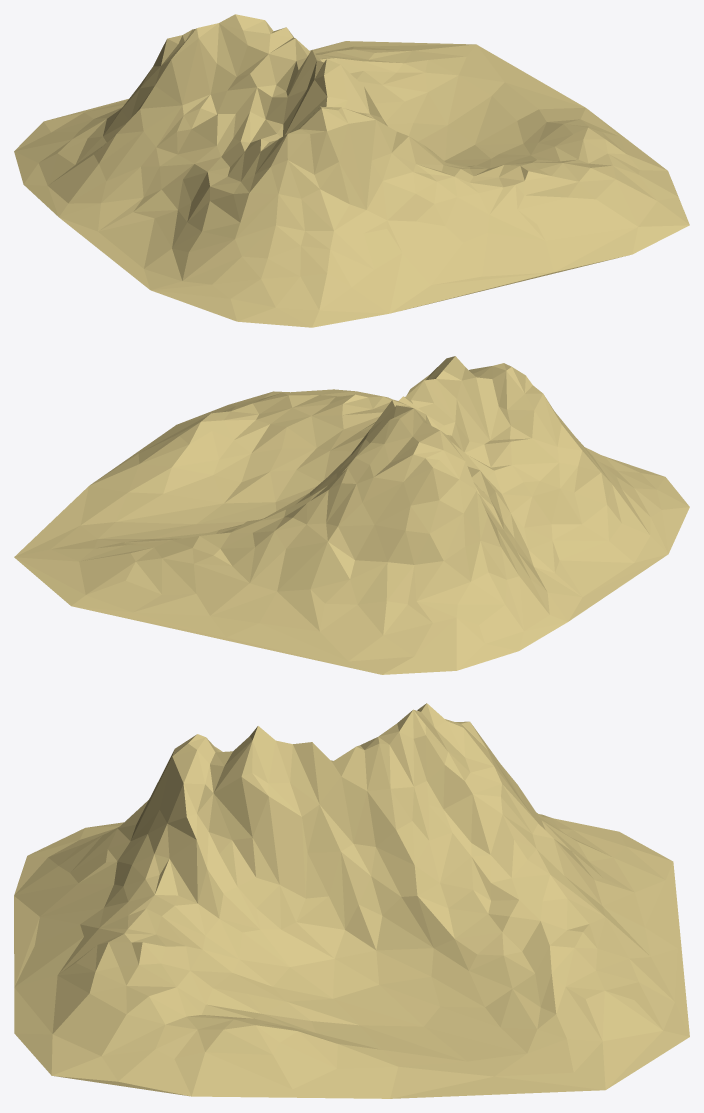
File: TerrainSand_8.fbx
3 renders of one model, top to bottom at view 1: azimuth 30°, elevation 25°; view 2: azimuth 150°, elevation 25°; view 3: azimuth 270°, elevation 25°, orthographic. The views are drawn at different scales.
Visible parts, largest first — view 1: TerrainSand_8; view 2: TerrainSand_8; view 3: TerrainSand_8.
Boxes of the visible parts, left/top/right/bottom form: TerrainSand_8: left=14, top=14, right=689, bottom=327; TerrainSand_8: left=14, top=356, right=689, bottom=674; TerrainSand_8: left=14, top=703, right=689, bottom=1098.
Size of the model in its own units: 1595 by 506 by 1570.
